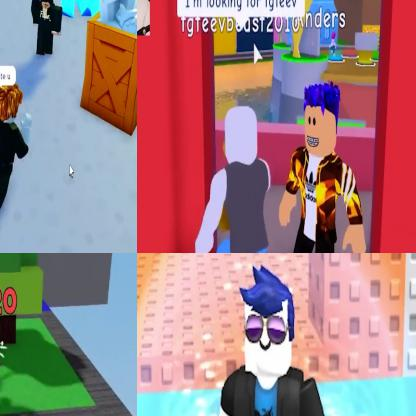Roblox-Avatar: (211, 264, 337, 416), (280, 81, 368, 253), (195, 107, 273, 253), (1, 83, 34, 219), (32, 1, 64, 57)
